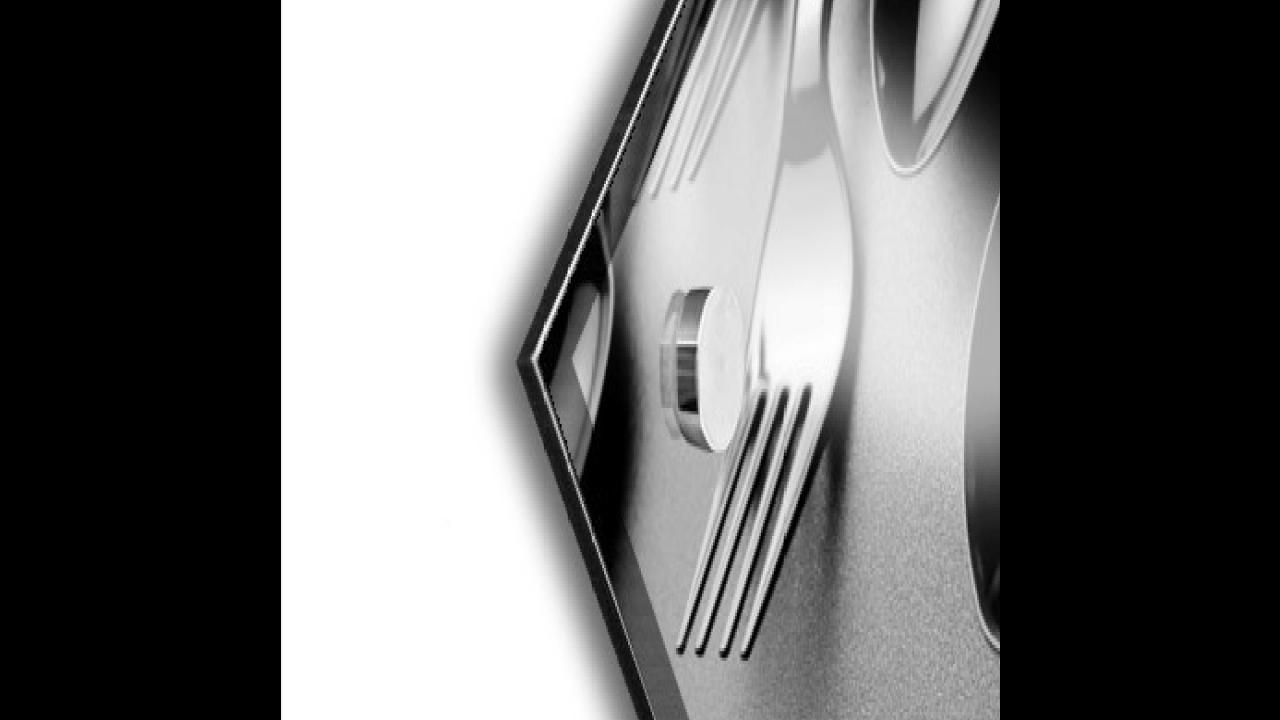fork: (673, 0, 907, 664)
